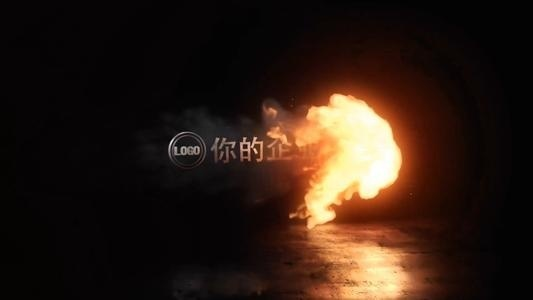fire: (267, 89, 405, 223)
